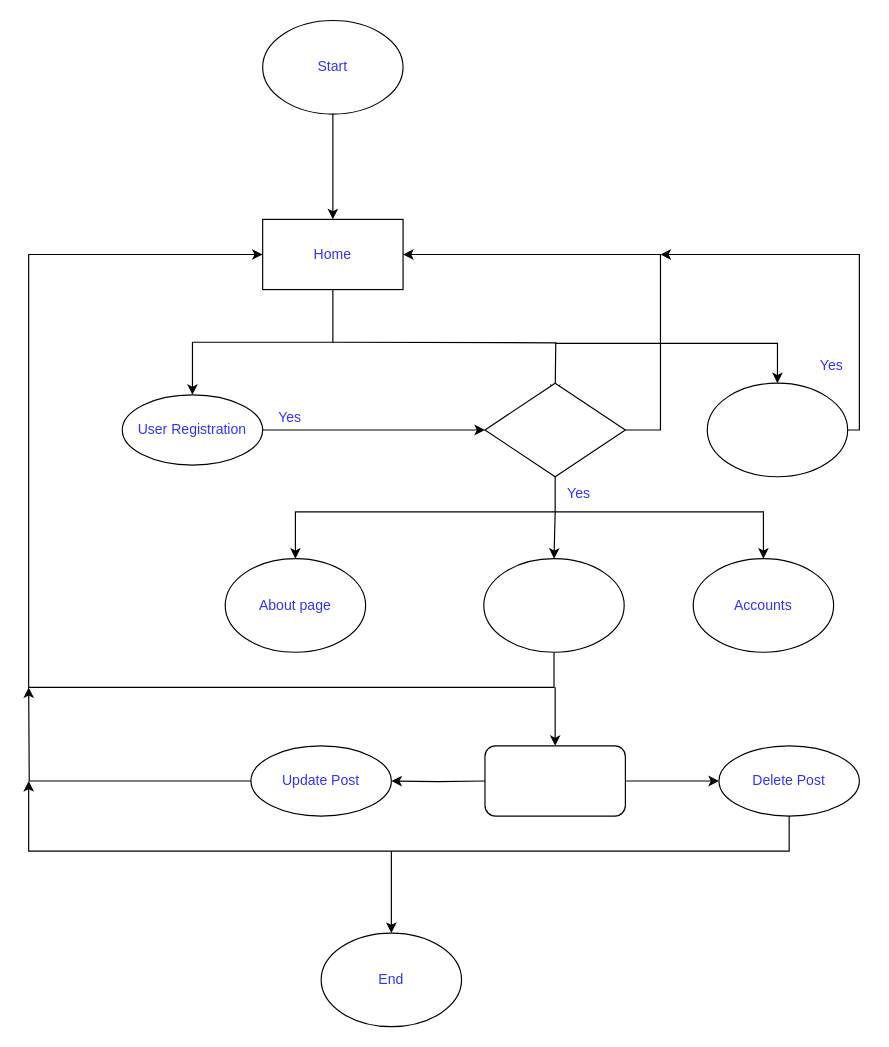
Image size: 889x1047. Some labels were removed from this diagram. Each missing label, with the centre of its shape:
"Each Post" belongs at (x=554, y=780).
"New Post" belongs at (x=553, y=605).
"User Login" belongs at (x=554, y=429).
"User Logout" belongs at (x=777, y=429).
